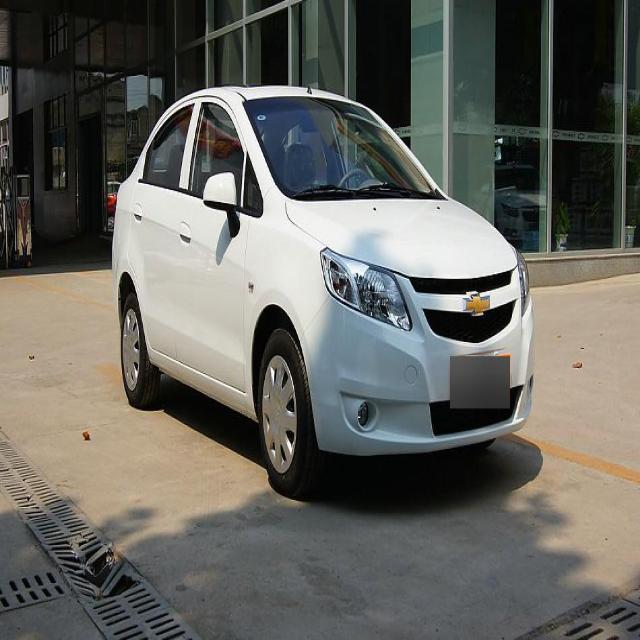door: (134, 96, 197, 363)
front_bumper: (300, 294, 536, 456)
front_glass: (243, 97, 435, 197)
front_left_side_light: (516, 252, 532, 318)
front_right_side_door: (177, 94, 247, 396)
front_right_side_light: (320, 245, 413, 332)
front_right_side_mirror: (203, 171, 242, 241)
wheel: (258, 334, 313, 494), (122, 296, 158, 405)
